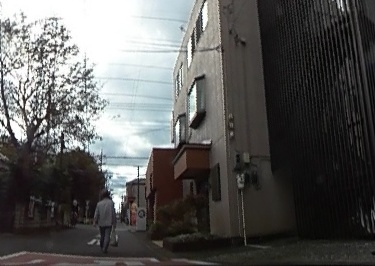person: (93, 192, 116, 250)
